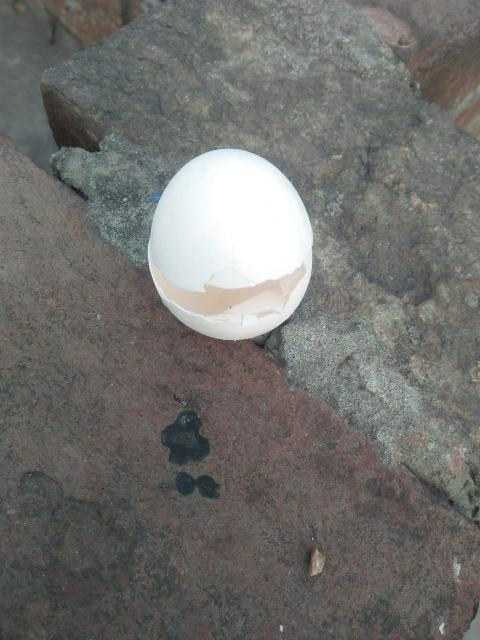Roto: (146, 147, 314, 341)
